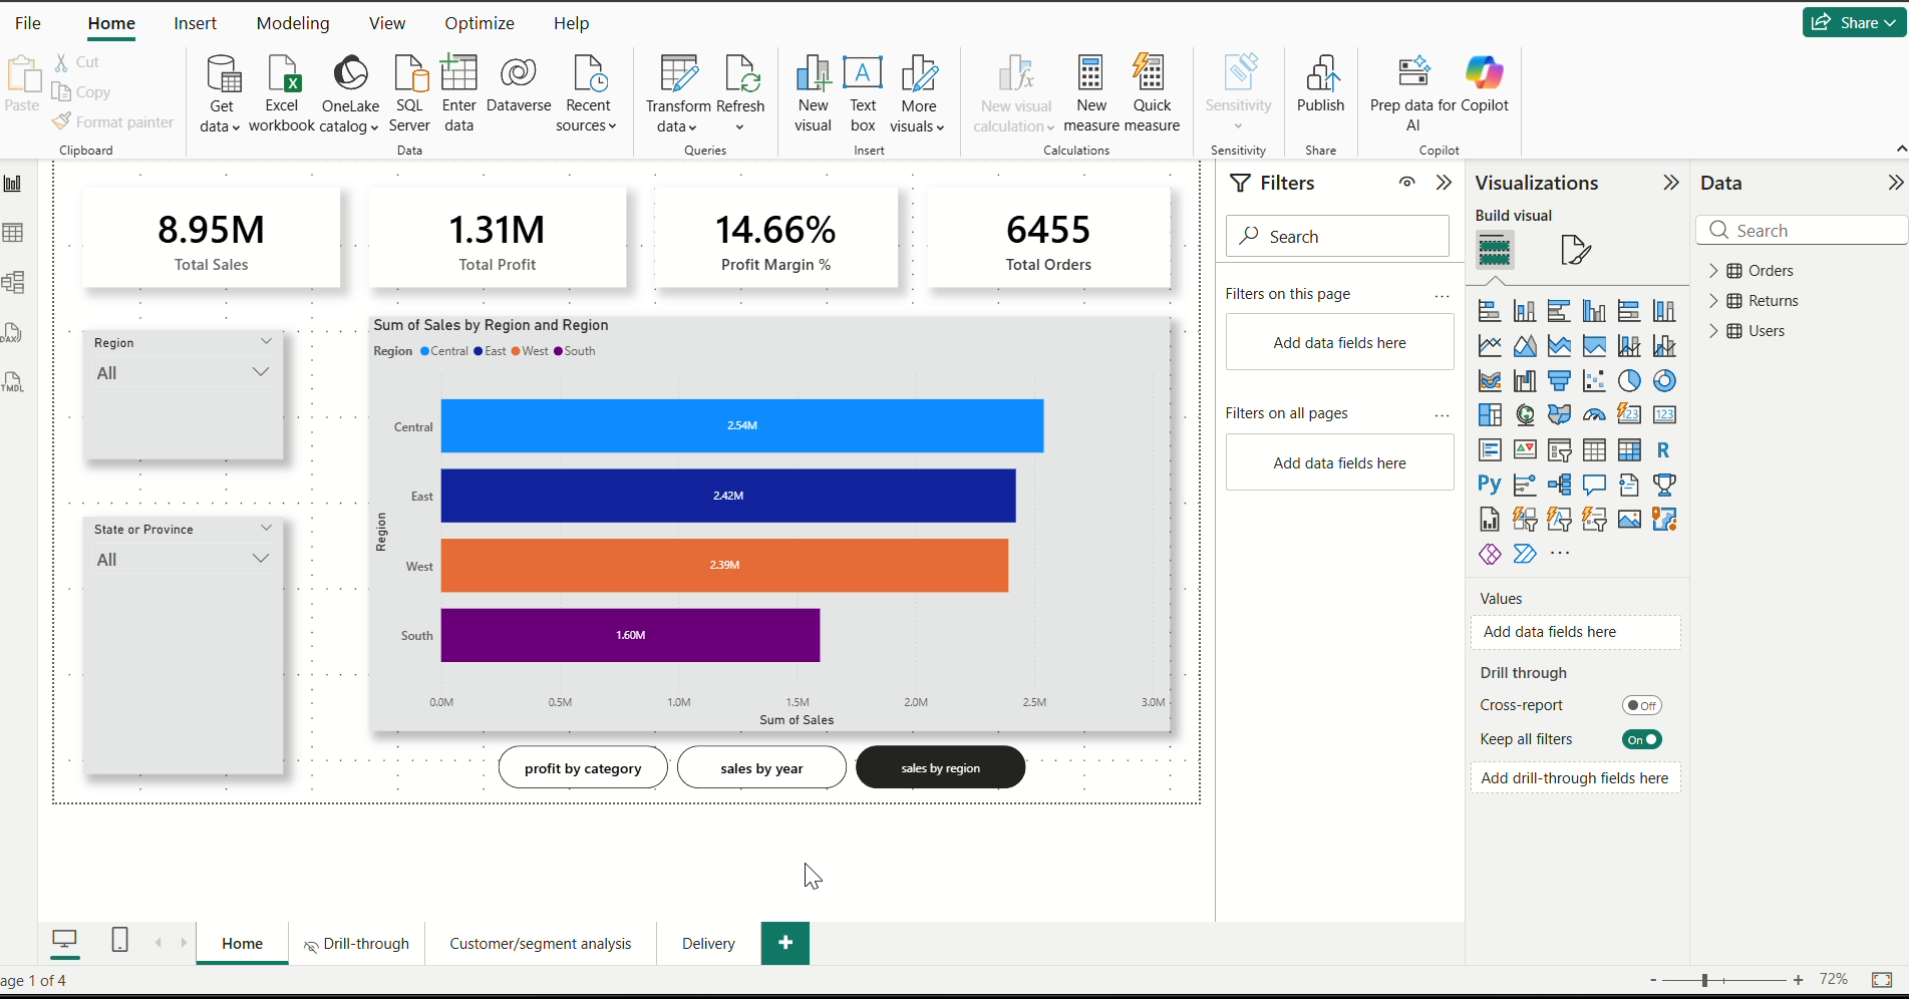

The page's visual inventory and layout, read from the dashboard file:
{"tool":"powerbi","page":{"name":"Home","canvas":[1280,720],"ordinal":0},"visuals":[{"type":"card","fields":{"Values":["Orders.Total Profit"]},"box":[352,32,288,112],"z":0},{"type":"card","fields":{"Values":["Orders.Profit Margin %"]},"box":[672,32,272,112],"z":1000},{"type":"card","fields":{"Values":["Orders.Total Orders"]},"box":[976,32,272,112],"z":2000},{"type":"card","fields":{"Values":["Orders.Total Sales"]},"box":[32,32,288,112],"z":3000},{"type":"lineChart","fields":{"Y":["Sum(Orders.Sales)"],"Category":["Orders.Order Date.Variation.Date Hierarchy.Year"]},"box":[352,176,896,464],"z":5000},{"type":"slicer","fields":{"Values":["Orders.Region"]},"box":[32,192,224,144],"z":6000},{"type":"slicer","fields":{"Values":["Orders.State or Province"]},"box":[32,400,224,288],"z":8000},{"type":"bookmarkNavigator","box":[496,656,592,48],"z":9000}]}

Visuals, with their boxes on the page's 1280x720 design canvas (x1, y1, x2, y2). These are canvas units, not pixel positions in the 1909x999 screenshot, which may show the page scaled, cropped or inside an application window:
card - Orders.Total Profit: [352,32,640,144]
card - Orders.Profit Margin %: [672,32,944,144]
card - Orders.Total Orders: [976,32,1248,144]
card - Orders.Total Sales: [32,32,320,144]
lineChart - Sum(Orders.Sales) x Orders.Order Date.Variation.Date Hierarchy.Year: [352,176,1248,640]
slicer - Orders.Region: [32,192,256,336]
slicer - Orders.State or Province: [32,400,256,688]
bookmarkNavigator: [496,656,1088,704]
